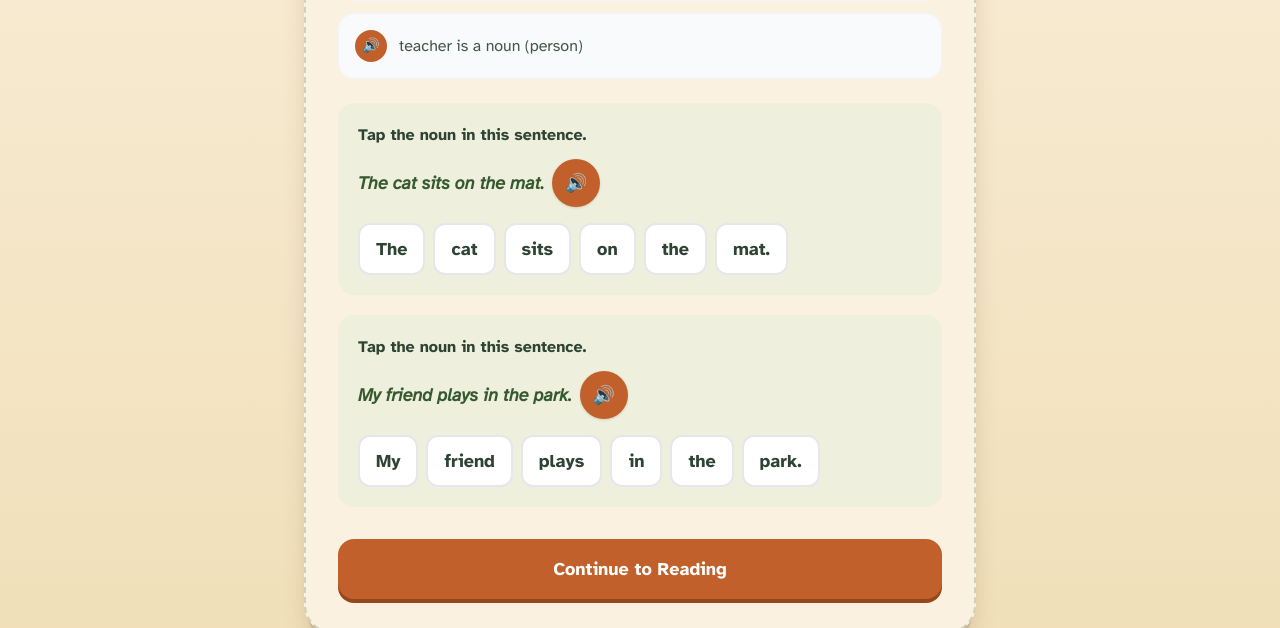
GrammarLesson practice scoring › tapping the correct word in a tap-the-noun sentence marks it correct (was previously unimplemented — no tappable words at all)
(page scrolled)
Check: the text "My friend plays in the park." is shown, box [358,381,572,409]
Click the button "friend" at (470, 461), box [426,435,513,487]
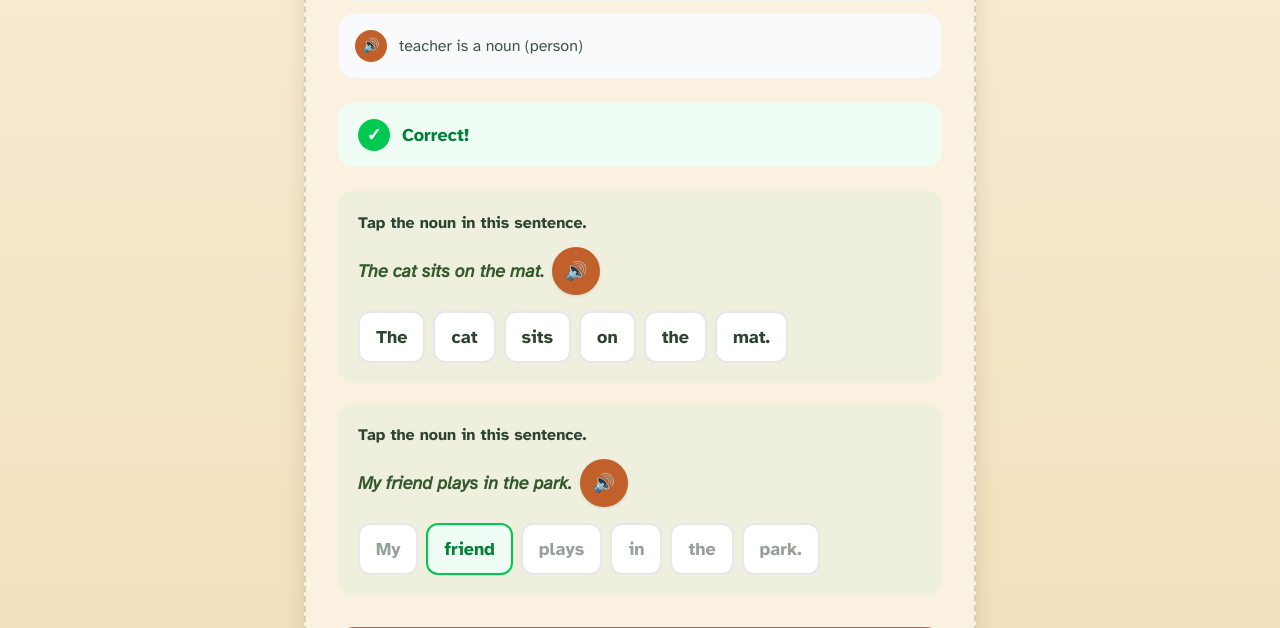
Check: the text "Correct!" is shown, box [402,121,469,149]
